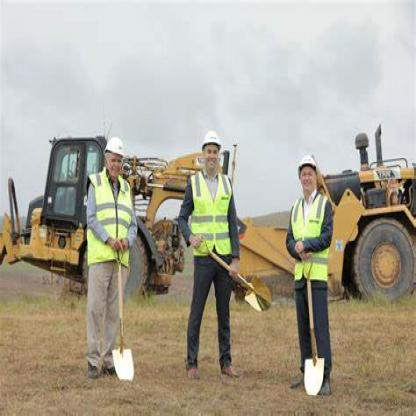person: (177, 121, 251, 394), (291, 137, 347, 395), (81, 132, 128, 395)
